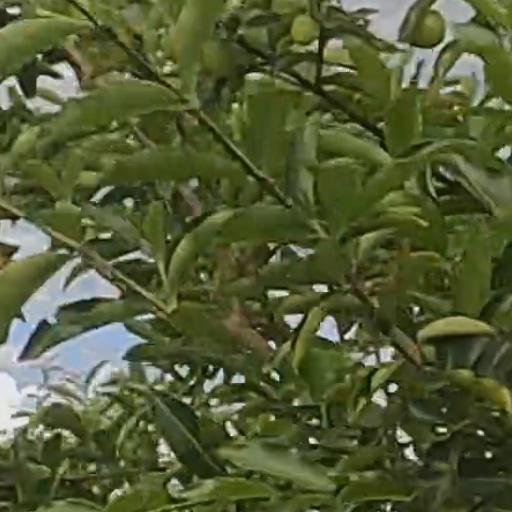acerola_verde: (413, 10, 444, 47), (292, 14, 316, 43)
